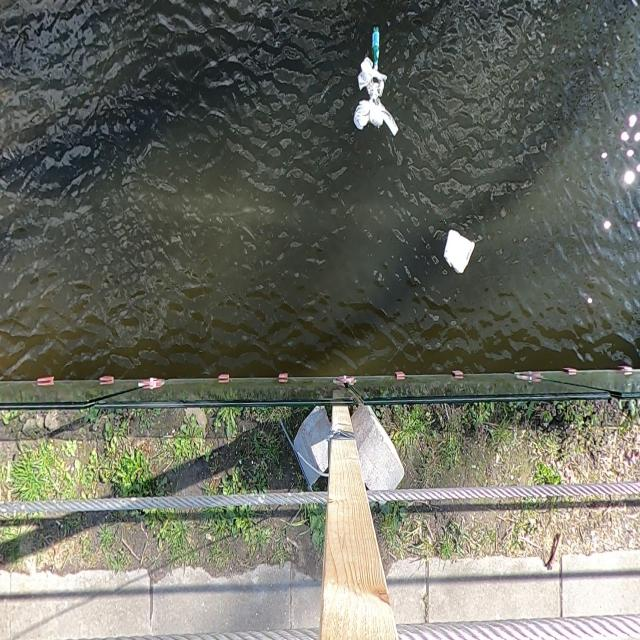Bouteille plastique: (371, 23, 382, 73)
Sac plastique: (345, 54, 407, 146)
